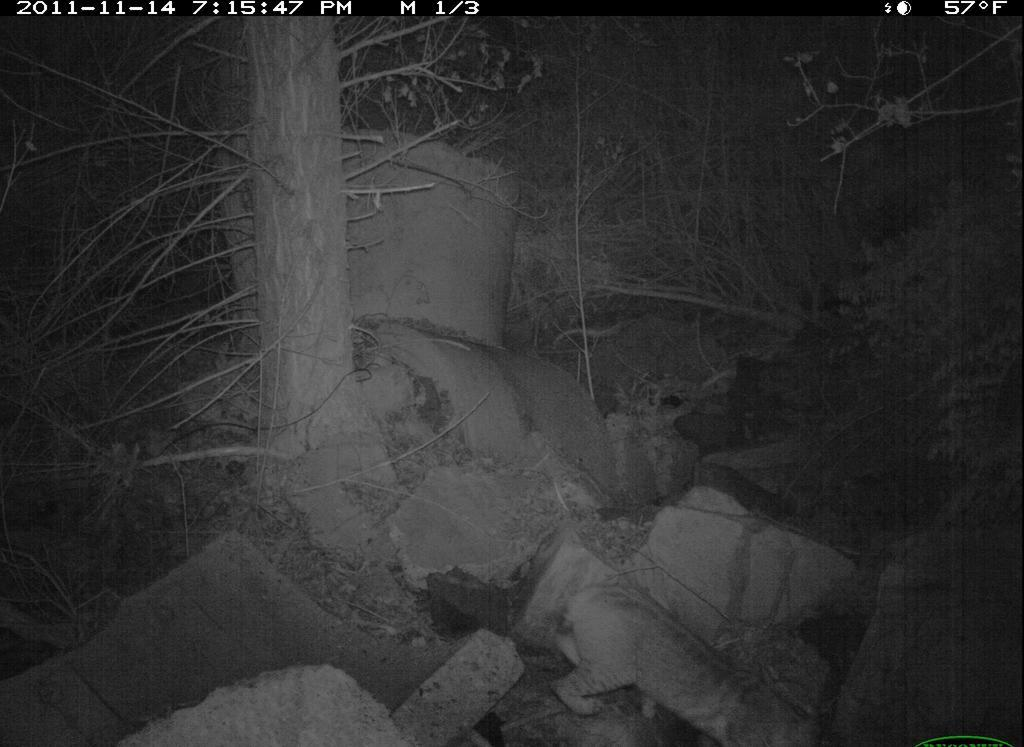bobcat: (548, 579, 825, 747)
